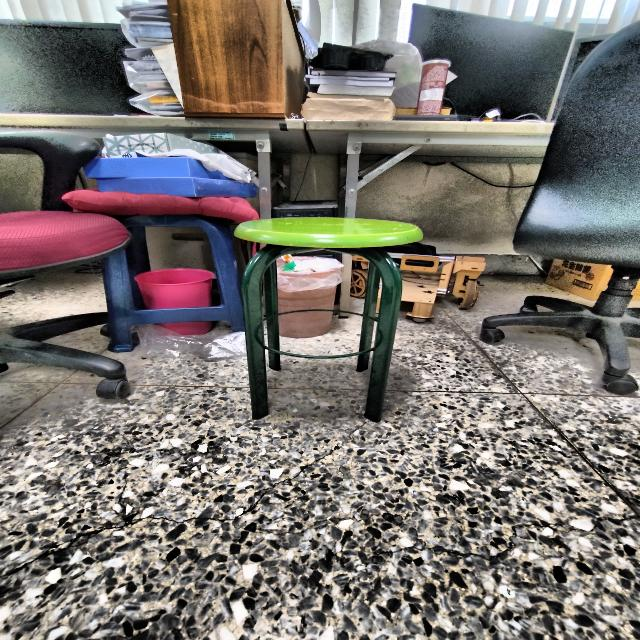cadeira: (472, 5, 640, 403), (234, 211, 426, 427), (96, 183, 249, 362)
